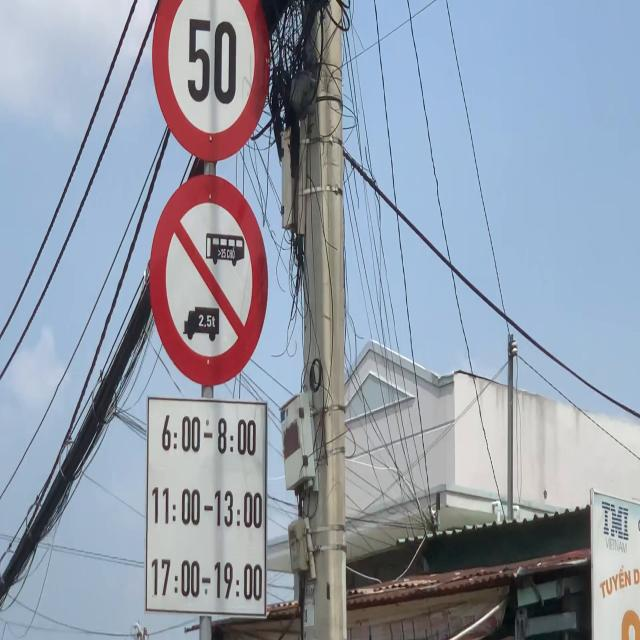Cam con lai: (148, 173, 268, 387)
Toc do toi da: (149, 0, 272, 164)
